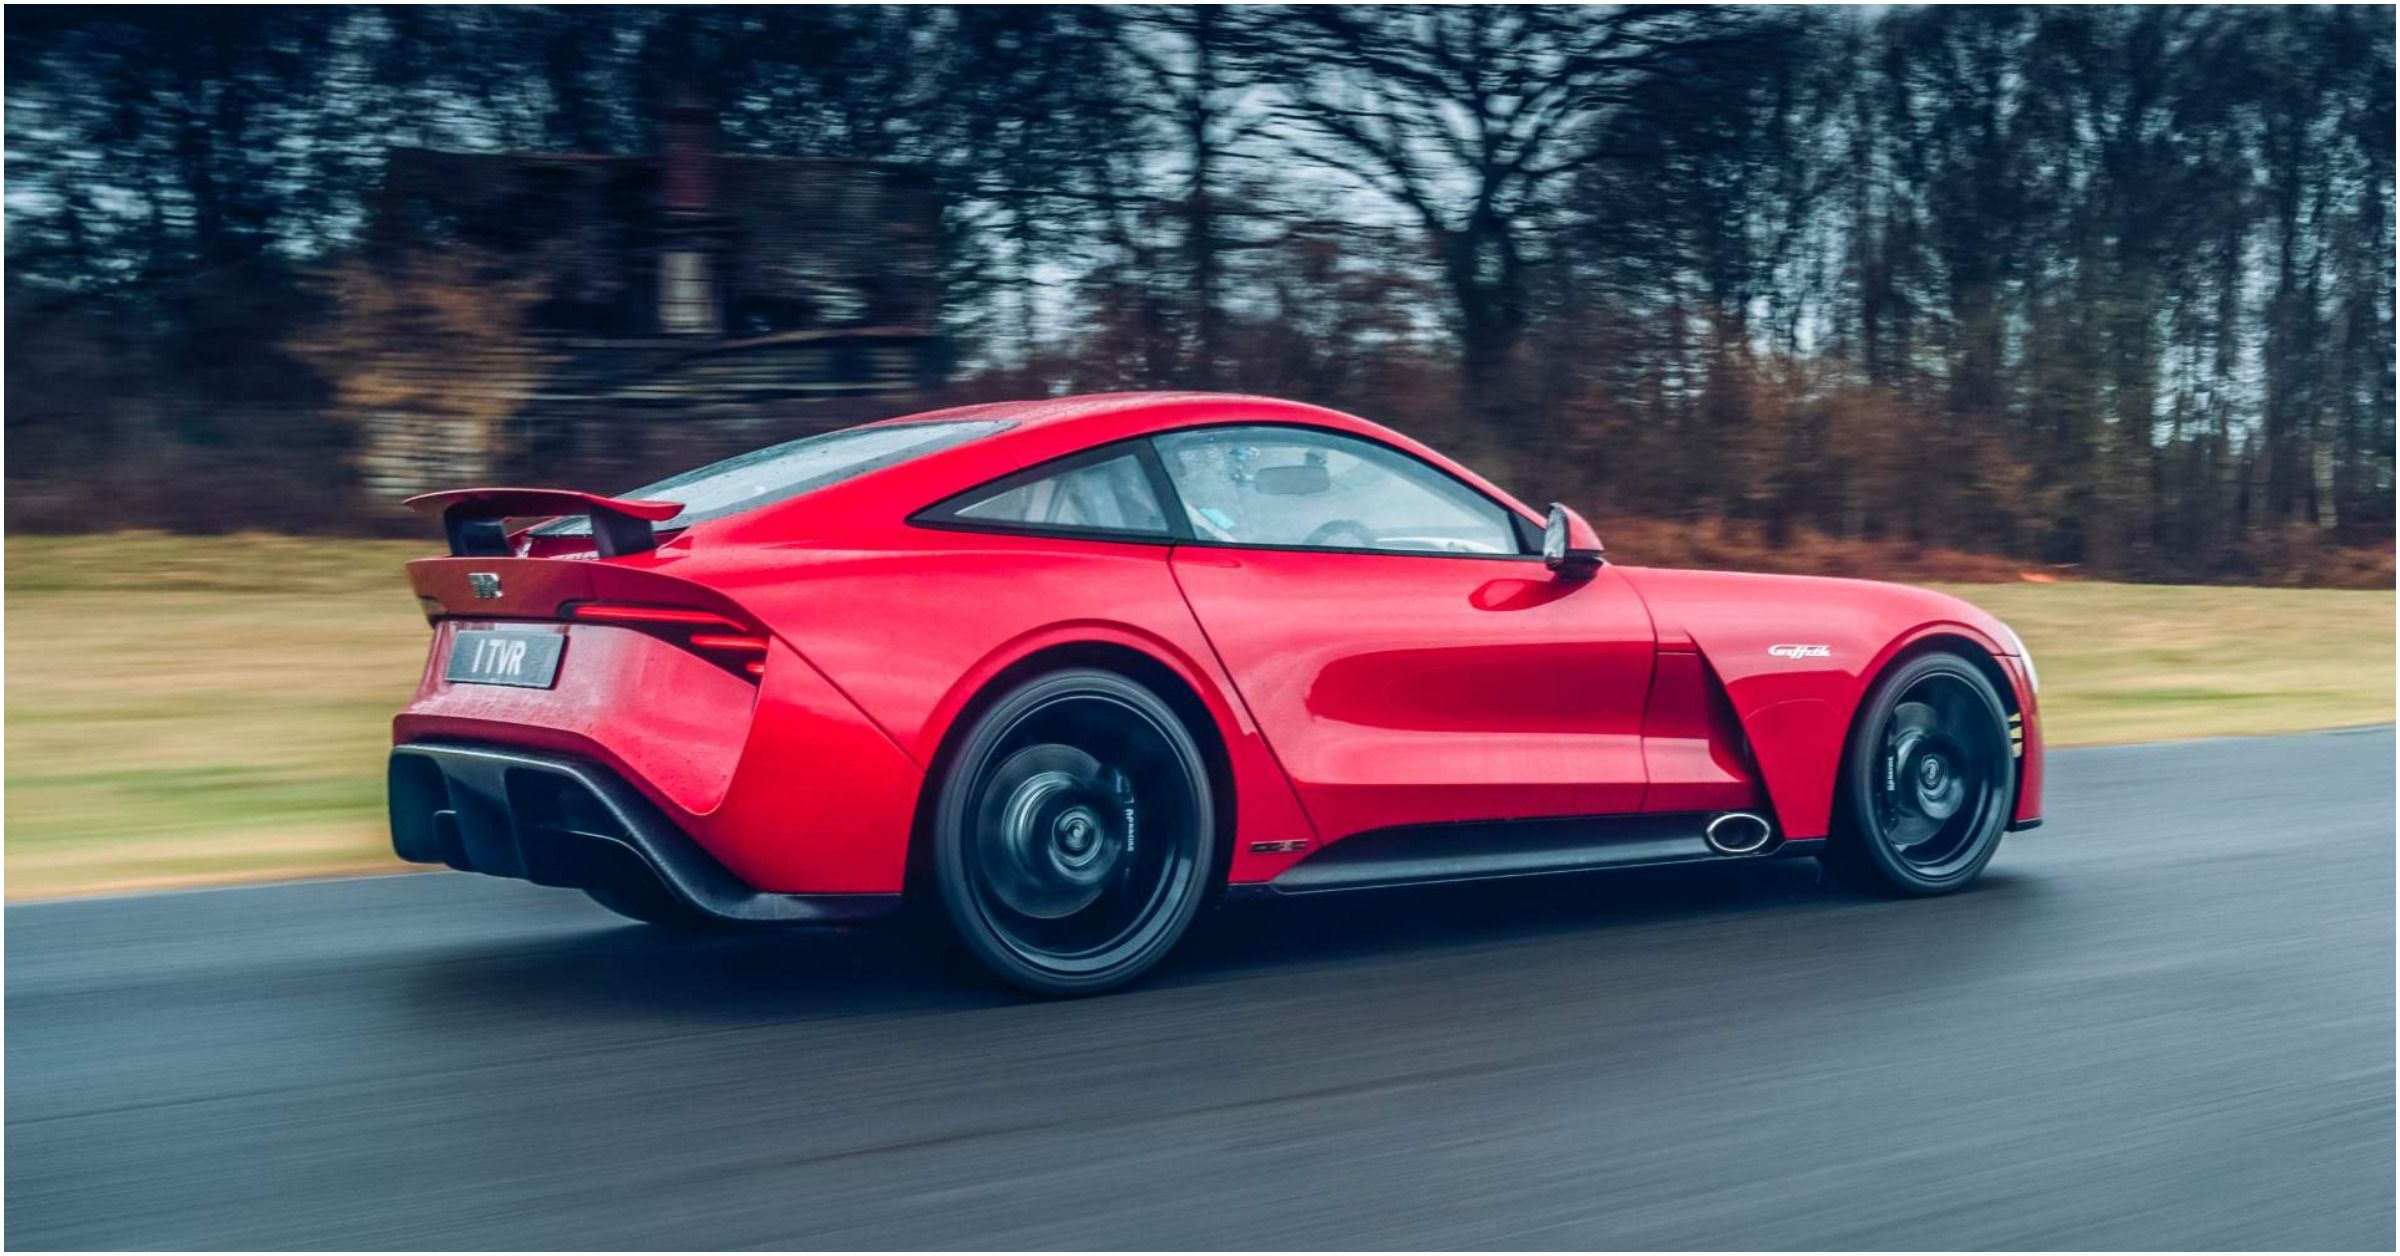wheel: (890, 662, 1210, 1000), (1841, 638, 2022, 881)
